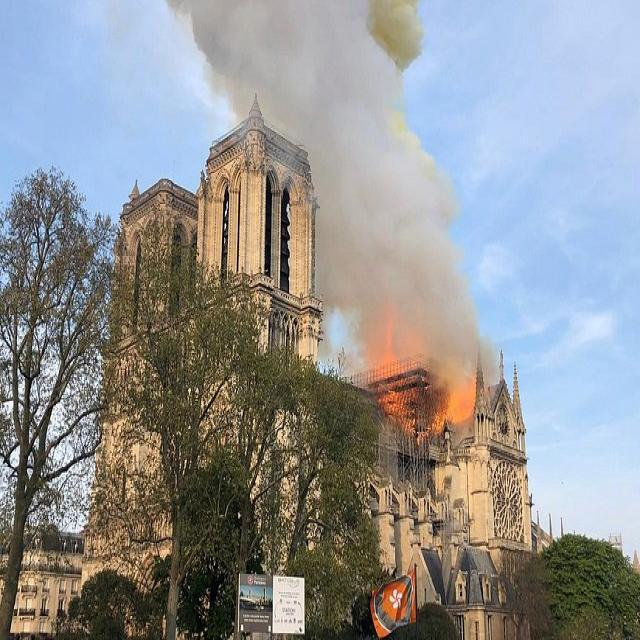Fire: (362, 304, 488, 436)
Smoke: (169, 0, 497, 387)
